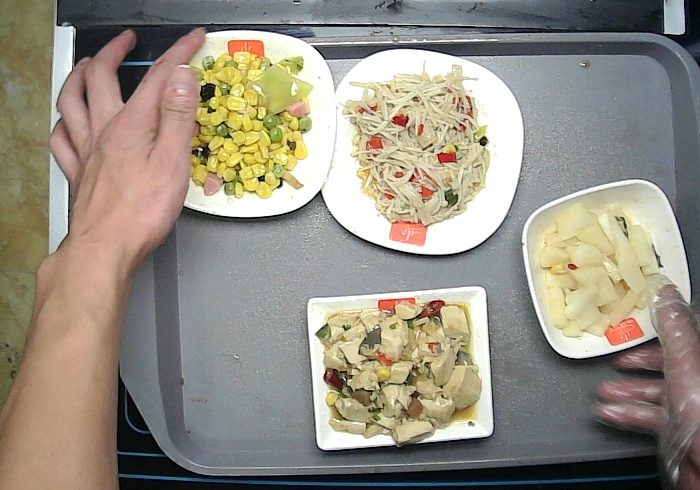SHKJ-Bai_Se_Cai_Die: (149, 30, 337, 221)
SHKJ-Bai_Se_Si_Fang_Cai_Die: (317, 49, 525, 258)
SHKJ-Bai_Se_Xiao_Fang_Die: (520, 178, 694, 358)
SHKJ-Si_Fang_Min: (306, 285, 496, 452)
